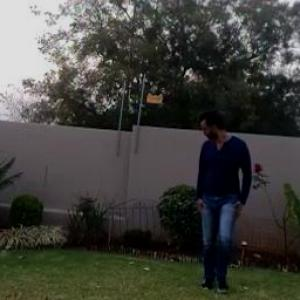follow: (191, 96, 255, 299)
